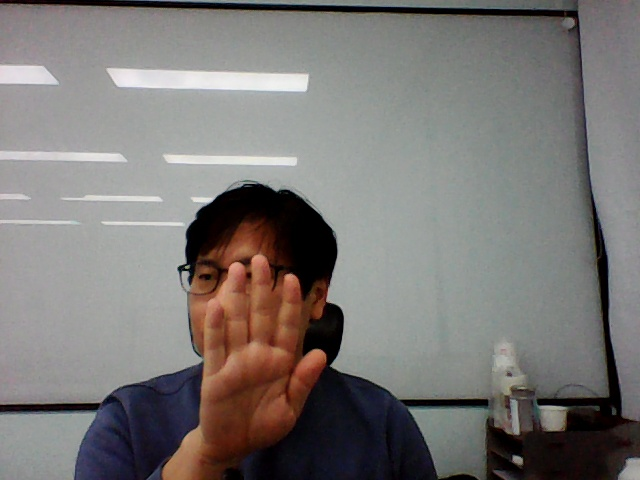five: (183, 249, 326, 453)
